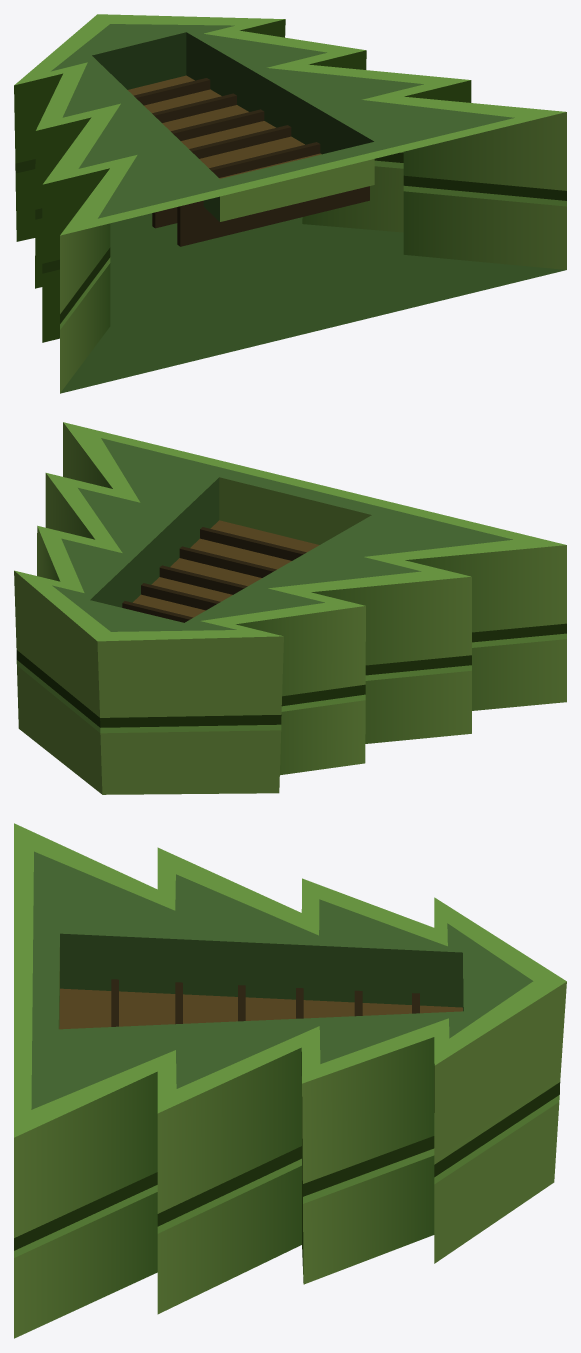
File: HolidayProgressMeterTree.fbx
3 renders of one model, top to bottom at view 1: azimuth 30°, elevation 25°; view 2: azimuth 150°, elevation 25°; view 3: azimuth 270°, elevation 25°, orthographic. The views are drawn at different scales.
Visible parts, largest first — view 1: HolidayProgressMeterTree; view 2: HolidayProgressMeterTree; view 3: HolidayProgressMeterTree.
Part boxes in pixels (<box>): HolidayProgressMeterTree: <box>14,14,566,393</box>; HolidayProgressMeterTree: <box>14,422,566,794</box>; HolidayProgressMeterTree: <box>14,823,566,1338</box>.
Bounding box in the file's own units: 193 × 57.4 × 143.
